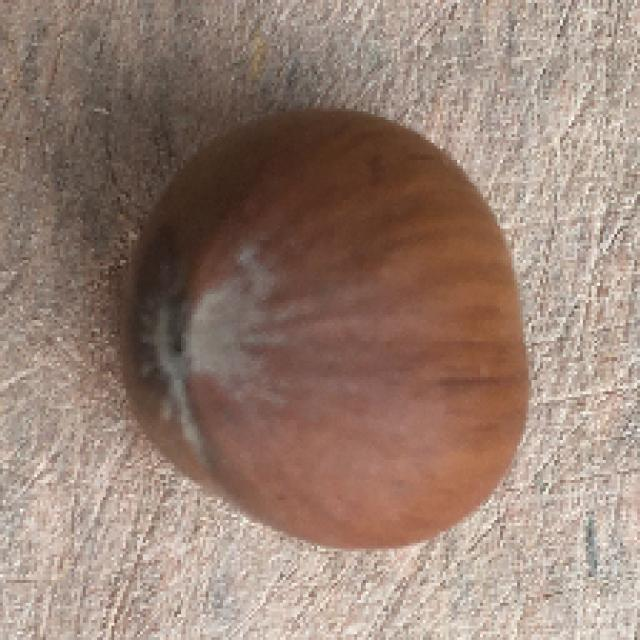qualityHazelnut: (99, 101, 537, 553)
